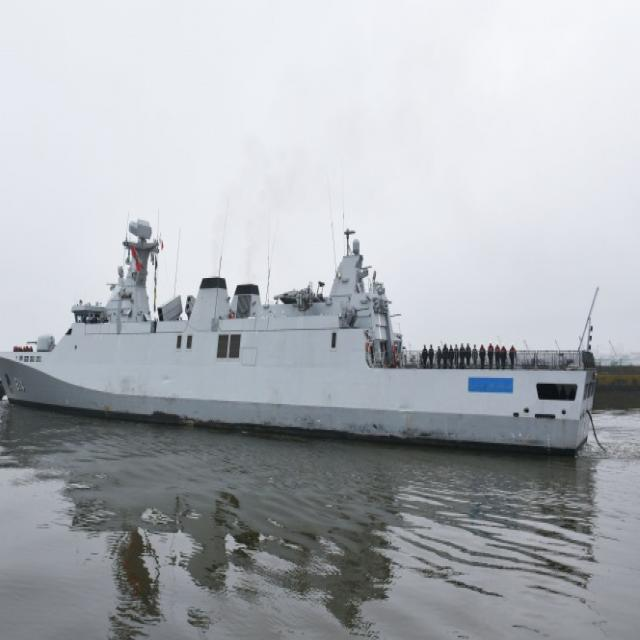Fragata: (1, 147, 603, 473)
